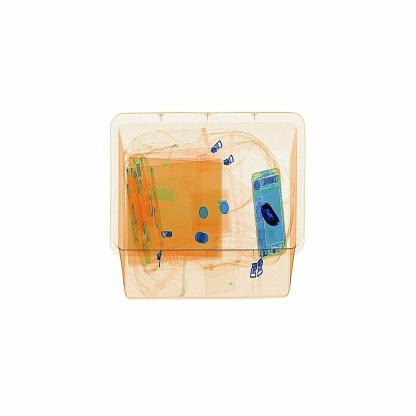scissors: (251, 197, 285, 230)
